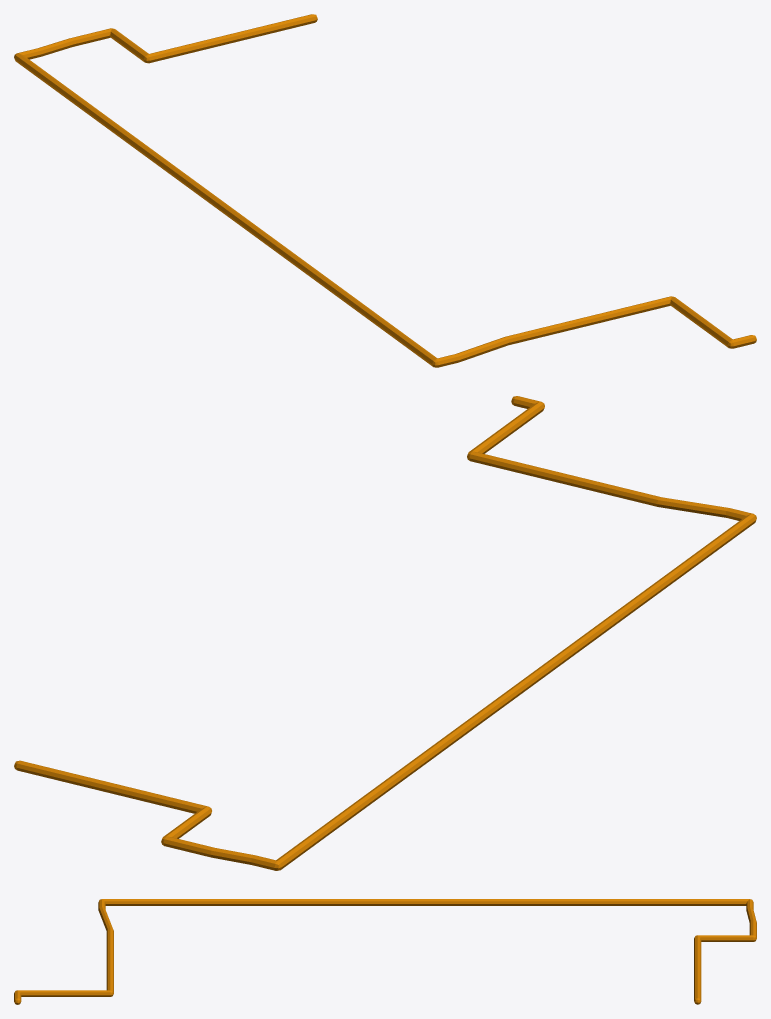
3 renders of one model, top to bottom at view 1: azimuth 30°, elevation 25°; view 2: azimuth 150°, elevation 25°; view 3: azimuth 270°, elevation 25°, orthographic. The views are drawn at different scales.
Size of the model in its own units: 653 by 20 by 2007.
